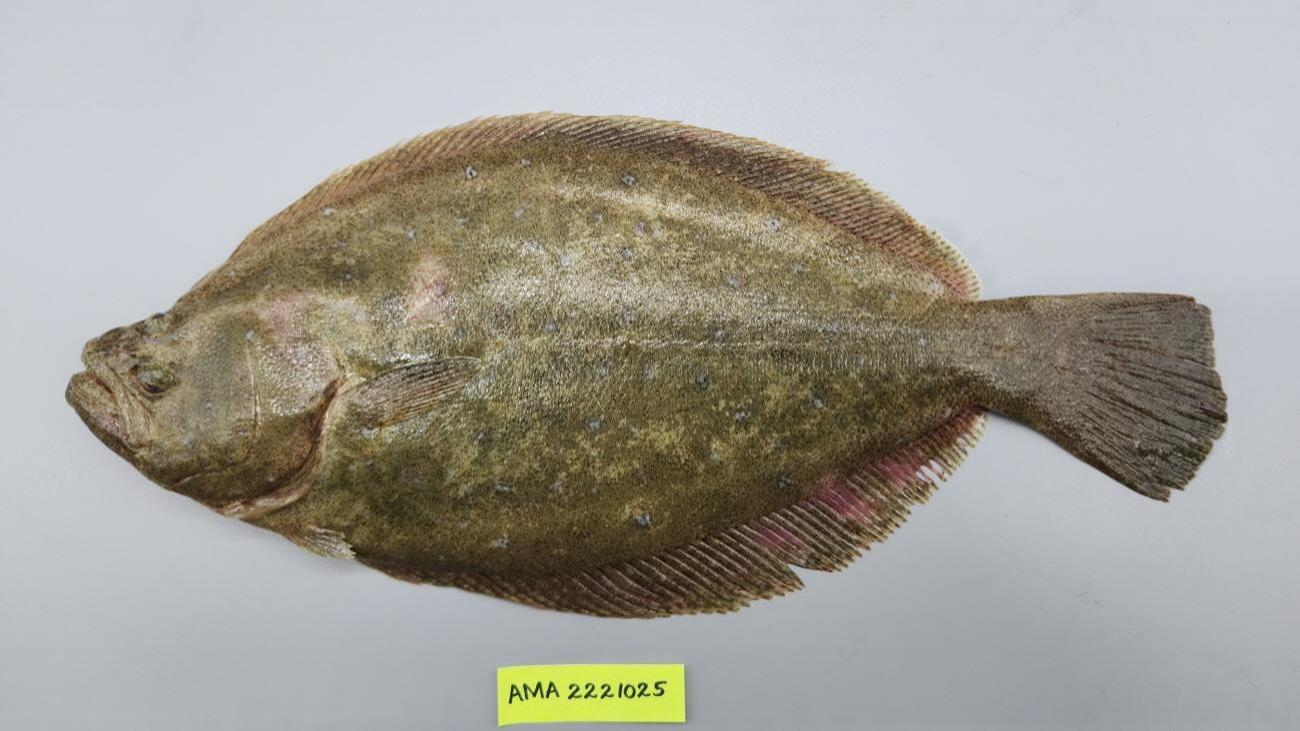MADYU: (402, 244, 452, 328)
MAFCH: (1050, 294, 1175, 476)
MAOUY: (64, 115, 1229, 618)
